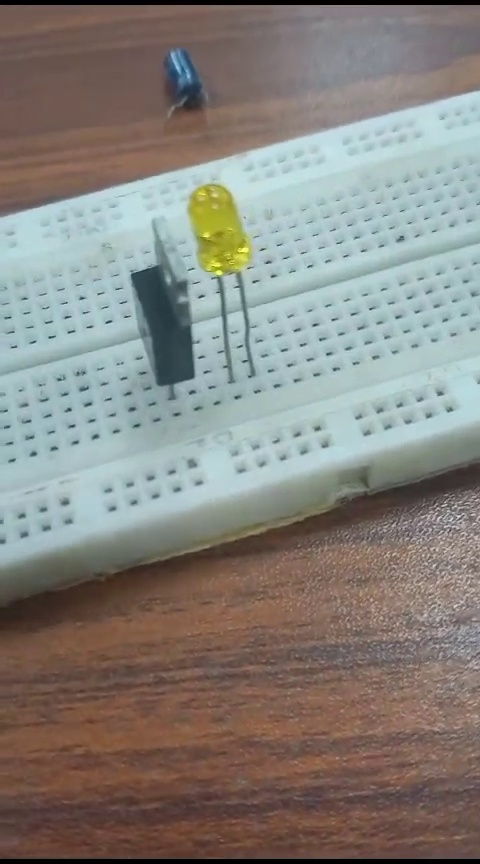LED: (188, 176, 268, 391)
voltage regulator: (120, 212, 198, 385)
